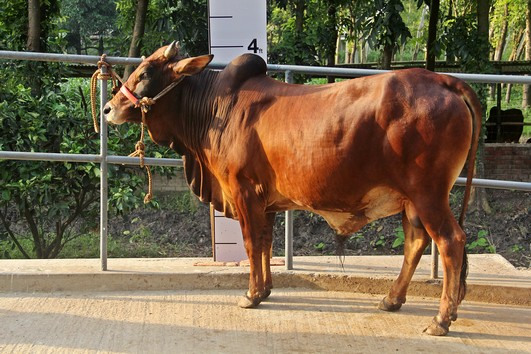cow: (92, 39, 477, 333)
